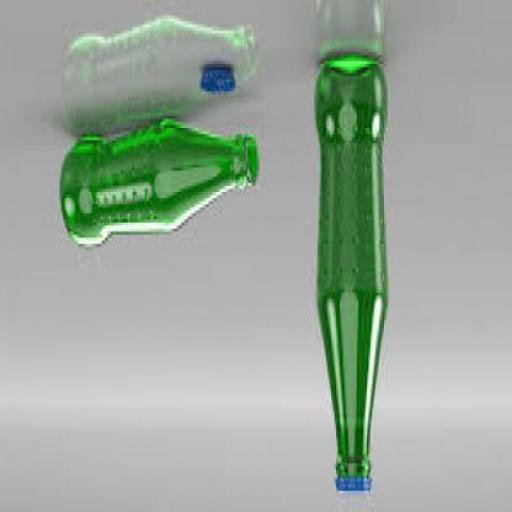glass: (316, 61, 390, 482), (61, 119, 261, 253)
metal: (203, 70, 235, 97), (338, 478, 376, 500)
